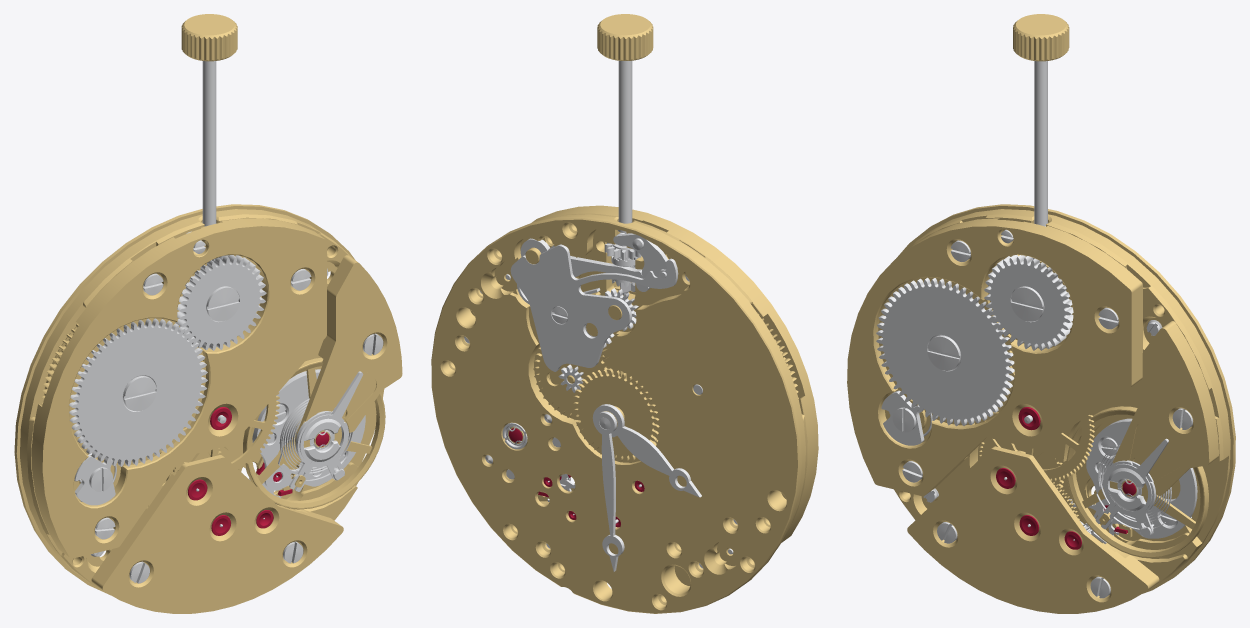
File: calibre-6497-demontage.glb
3 views of the same model, side by side, from view 1: azimuth 30°, elevation 25°; view 2: azimuth 150°, elevation 25°; view 3: azimuth 330°, elevation 25° (orthographic).
Parts seen in each view (by area): view 1: Body1:6, Body1:17, Body1:67, Body1, Body1:25, Body1:57, Body1:75, Body1:42, Body1:58, Body1:59, Body1:70, Body1:77 (+7 smaller); view 2: Body1, Body1:41, Body1:6, Body1:91, Body1:58, Body1:59, Body1:92, Body1:94, Body1:74, Body1:88, Body1:96, Body1:39; view 3: Body1:6, Body1:17, Body1, Body1:67, Body1:25, Body1:57, Body1:75, Body1:42, Body1:59, Body1:58, Body1:70, Body1:86 (+7 smaller).
Boxes of the visible parts, x1,y1,x2,y2 form: Body1:6: (31, 218, 326, 558); Body1:17: (91, 455, 343, 613); Body1:67: (69, 318, 207, 466); Body1: (14, 204, 384, 595); Body1:25: (295, 255, 402, 447); Body1:57: (175, 255, 266, 350); Body1:75: (243, 357, 385, 509); Body1:42: (252, 369, 365, 490); Body1:58: (202, 61, 216, 226); Body1:59: (181, 14, 237, 61); Body1:70: (160, 359, 279, 472); Body1:77: (278, 398, 352, 481); Body1: (431, 213, 807, 613); Body1:41: (510, 244, 678, 371); Body1:6: (532, 205, 818, 542); Body1:91: (572, 369, 659, 461); Body1:58: (617, 61, 632, 295); Body1:59: (597, 14, 653, 60); Body1:92: (592, 404, 701, 497); Body1:94: (595, 411, 624, 571); Body1:74: (533, 347, 611, 419); Body1:88: (613, 232, 668, 278); Body1:96: (523, 238, 650, 291); Body1:39: (520, 238, 648, 291); Body1:6: (847, 218, 1142, 496); Body1:17: (907, 446, 1159, 613); Body1: (894, 204, 1235, 593); Body1:67: (876, 277, 1014, 426); Body1:25: (1110, 321, 1218, 502); Body1:57: (984, 255, 1073, 350); Body1:75: (1066, 406, 1208, 558); Body1:42: (1086, 418, 1197, 538); Body1:59: (1013, 14, 1069, 61); Body1:58: (1034, 61, 1047, 226); Body1:70: (974, 350, 1094, 482); Body1:86: (881, 390, 924, 445).
Bounding box in the file's own units: 1.34 × 2 × 0.2255.
